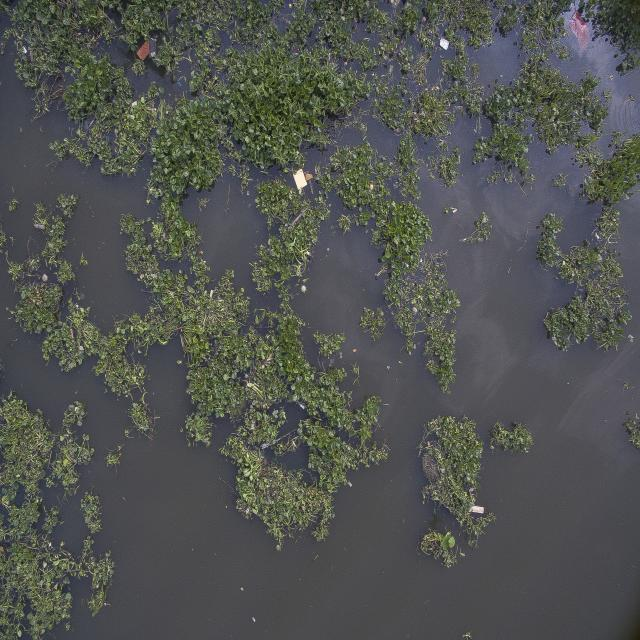debris: (568, 14, 594, 50), (133, 32, 158, 62), (291, 168, 314, 191), (467, 500, 487, 518), (290, 212, 306, 228), (297, 279, 310, 298), (438, 36, 452, 52), (367, 180, 379, 193), (236, 585, 248, 592), (130, 100, 139, 108)
plastic: (33, 220, 50, 232), (346, 475, 355, 493), (206, 286, 216, 301), (19, 44, 30, 56), (297, 399, 307, 412), (39, 272, 48, 286), (249, 613, 259, 624), (175, 76, 183, 89), (78, 343, 87, 353), (410, 304, 419, 314), (70, 327, 76, 341), (450, 207, 459, 216), (324, 245, 330, 253), (386, 362, 390, 370)
